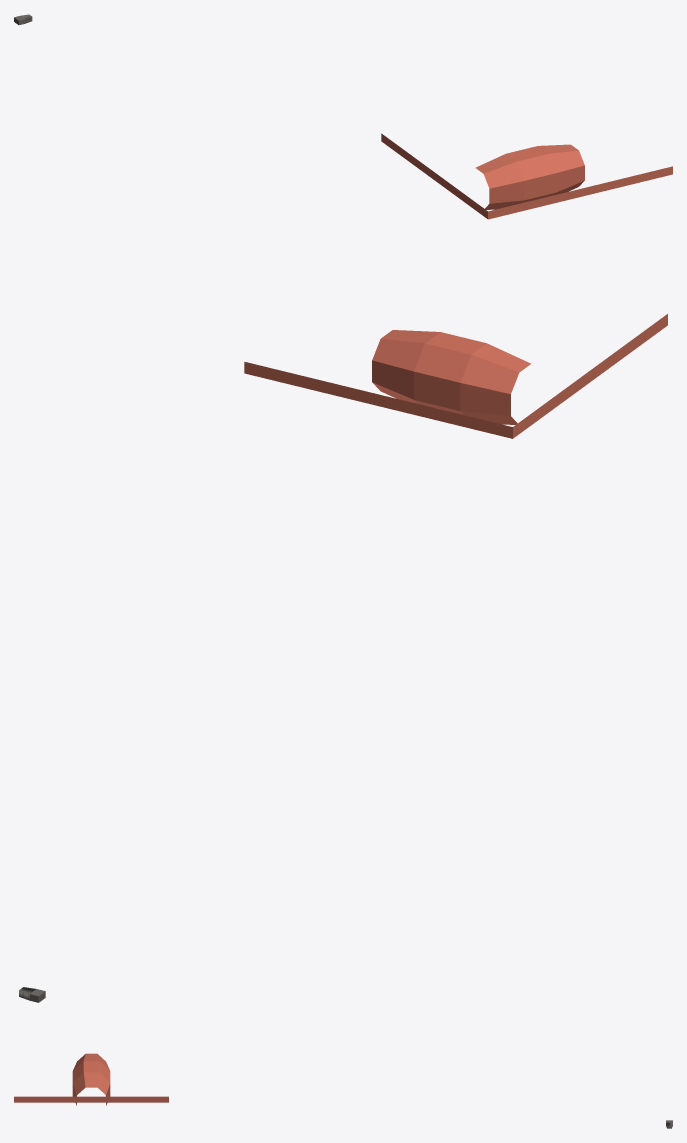
The model's file is kd_stage_135b75_4_119_bounded.glb.
The picture shows the model from 3 angles, top to bottom: view 1: azimuth 30°, elevation 25°; view 2: azimuth 150°, elevation 25°; view 3: azimuth 270°, elevation 25°; orthographic projection. The views are drawn at different scales.
Visible parts, largest first — view 1: kd_stage_135b75_4_119_bounded; view 2: kd_stage_135b75_4_119_bounded; view 3: kd_stage_135b75_4_119_bounded.
Boxes of the visible parts, x1,y1,x2,y2 form: kd_stage_135b75_4_119_bounded: (14,14,672,219); kd_stage_135b75_4_119_bounded: (19,314,667,1002); kd_stage_135b75_4_119_bounded: (14,1053,672,1128).
Size of the model in its own units: 0.4384 by 0.2801 by 1.68.
1 material, 1 textured.
